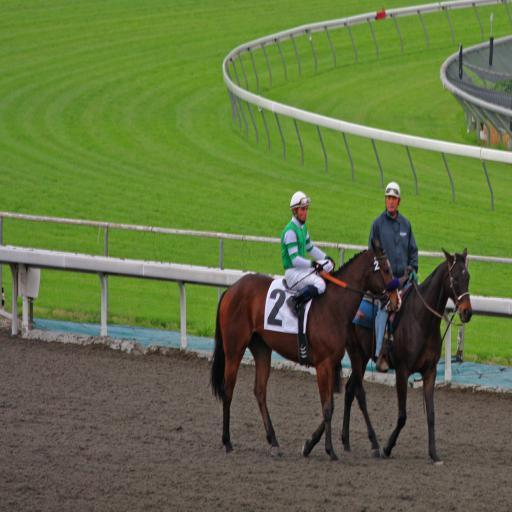horse: (204, 234, 404, 462), (334, 248, 476, 465)
